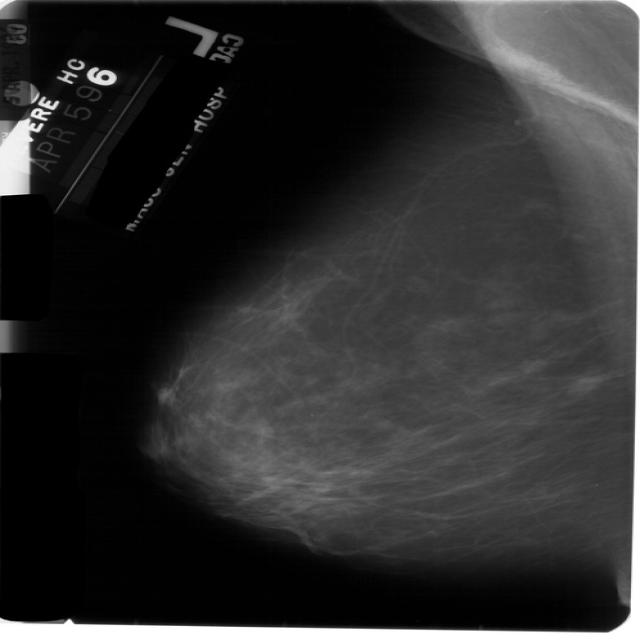tumour: (563, 374, 604, 397)
